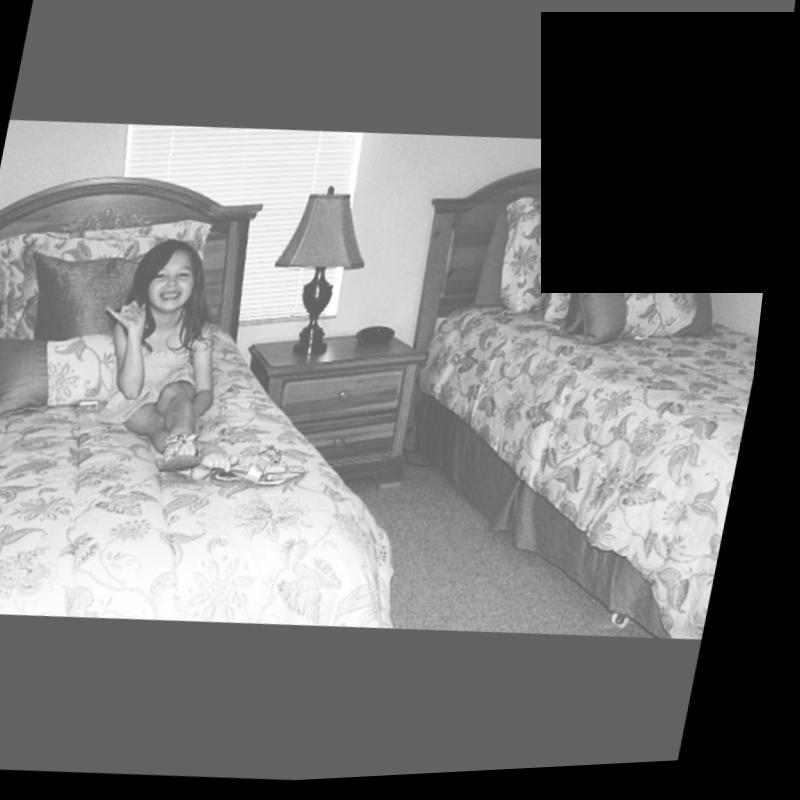pillow: (471, 187, 757, 370), (0, 205, 221, 440), (559, 219, 675, 346)
